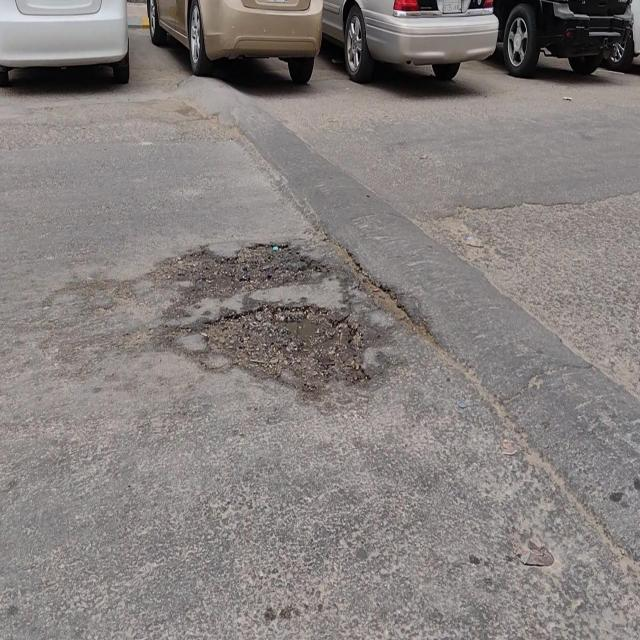Potholes: (205, 301, 362, 391), (169, 241, 311, 298)
